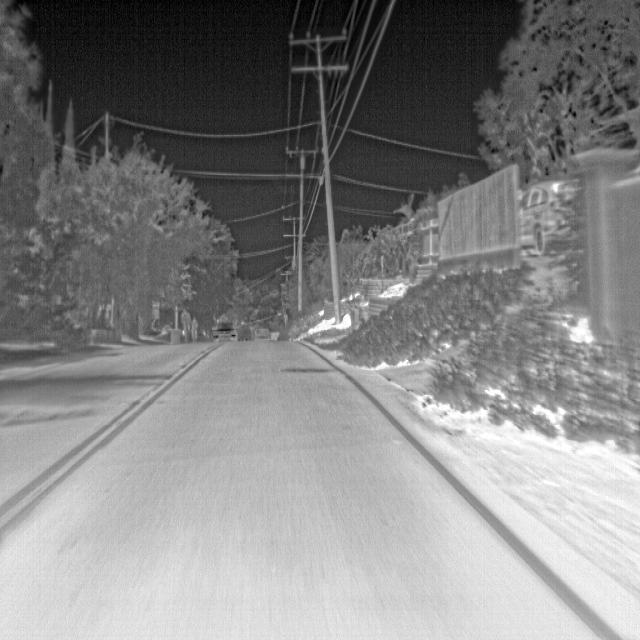Pedestrian: (177, 305, 194, 345)
Vehicle: (209, 316, 238, 342)
